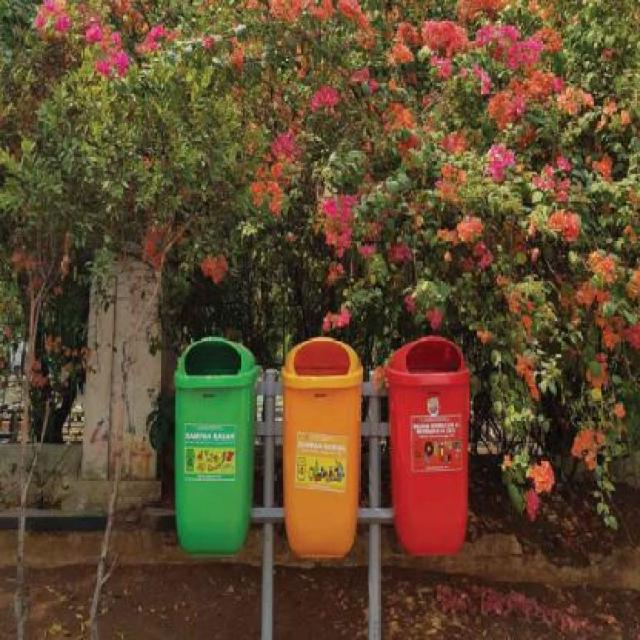garbage container: (170, 329, 265, 568), (386, 328, 479, 566), (278, 336, 368, 576)
